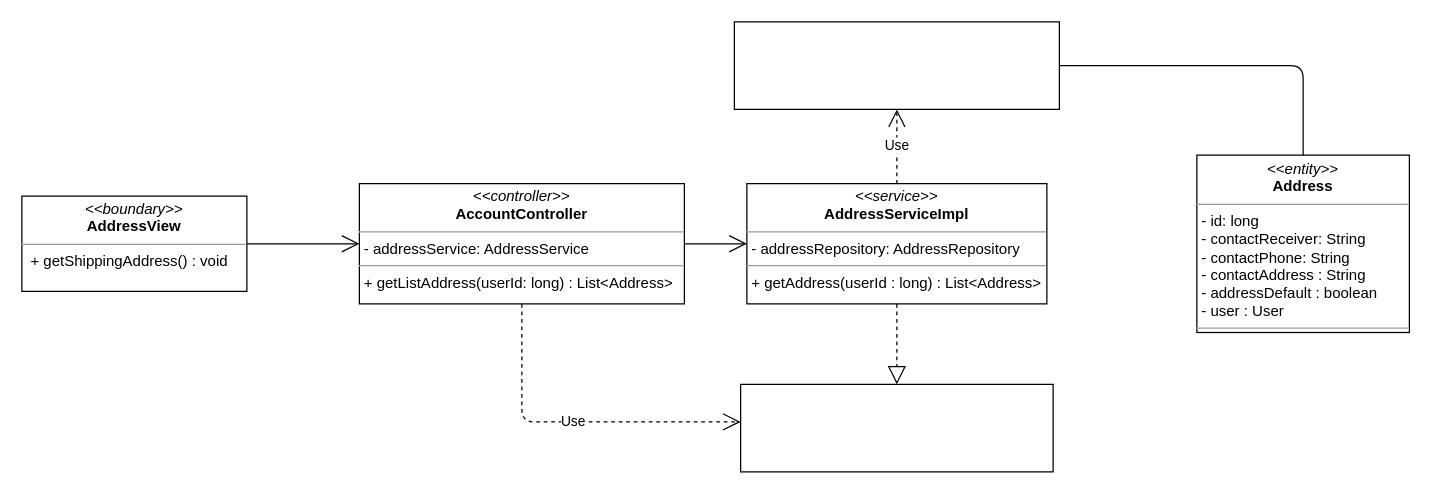
Image size: 1431x494. Some labels were removed from this diagram. The box of each missing label's shape, as (x1, y1, x2, y2) in pixels:
<<interface>> AddressRepository + findAllByUserId(userId: long) : List<Address>: (733, 21, 1059, 109)
<<interface>> AddressService + gerAddresses(userId: long) : List<Address>: (739, 383, 1053, 472)
